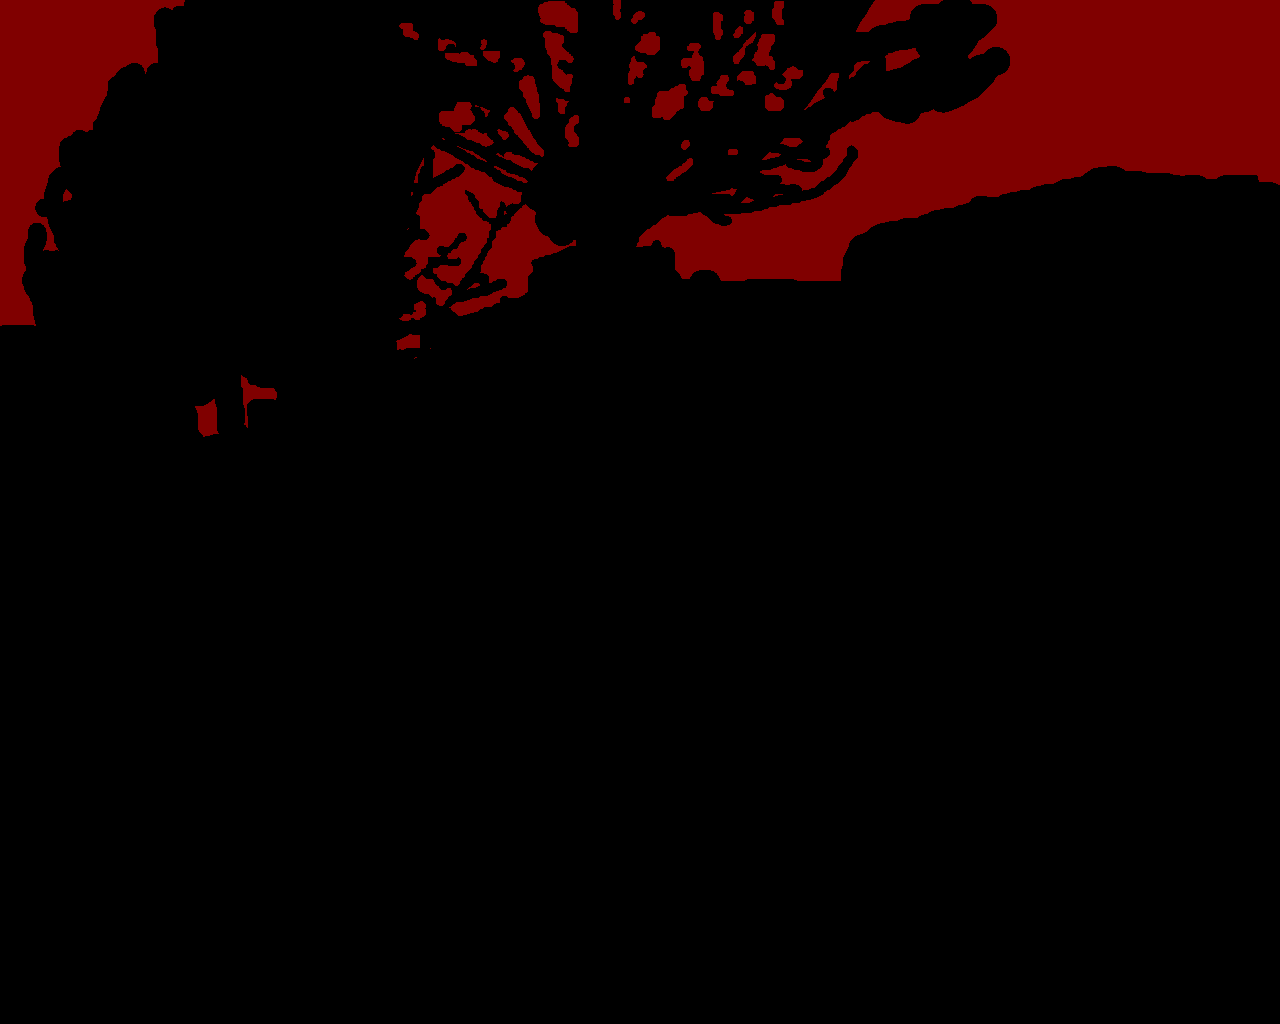Sky: (1, 1, 1279, 437)
